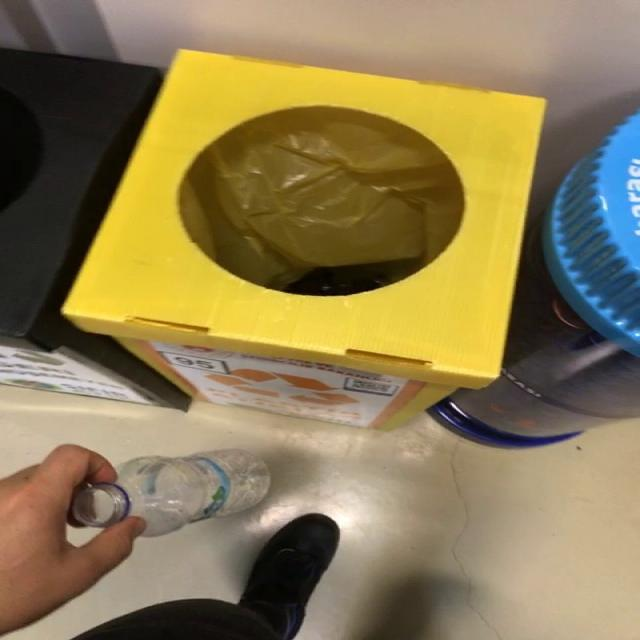plastic: (71, 450, 269, 538)
